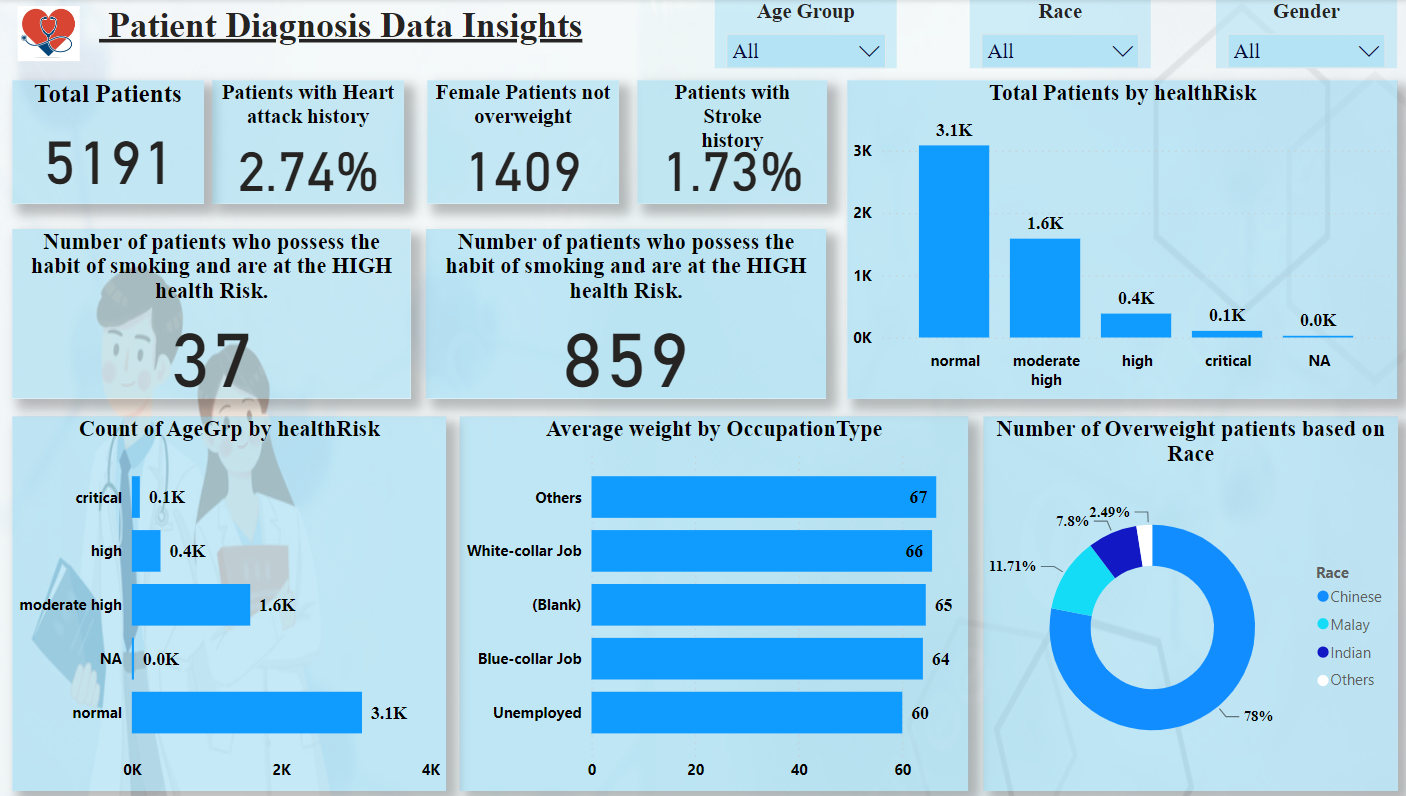

The page's visual inventory and layout, read from the dashboard file:
{"tool":"powerbi","page":{"name":"Page 1","canvas":[1280,720],"ordinal":0},"visuals":[{"type":"textbox","box":[80.3,0,461.4,62.3],"z":1},{"type":"card","title":"Total Patients","fields":{"Values":["Table1.Total Patients"]},"box":[14.4,73.1,172.6,111.5],"z":2},{"type":"card","title":"Patients with Heart attack history","fields":{"Values":["Table1.% heartattack"]},"box":[195.4,73.1,172.6,111.5],"z":3},{"type":"card","title":"Patients with Stroke history","fields":{"Values":["Table1.% stroke patient"]},"box":[577.7,73.1,171.4,111.5],"z":4},{"type":"card","title":"Female Patients not overweight","fields":{"Values":["CountNonNull(Table1.Overweight)"]},"box":[388.3,73.1,172.6,111.5],"z":5},{"type":"card","title":"Number of patients who possess the habit of smoking and are at the HIGH health Risk.","fields":{"Values":["CountNonNull(Table1.Zone)"]},"box":[14.4,207.8,359.2,152.9],"z":6},{"type":"card","title":"Number of patients who possess the habit of smoking and are at the HIGH health Risk.","fields":{"Values":["CountNonNull(Table1.Zone)"]},"box":[388.1,207.8,360.7,152.9],"z":7},{"type":"barChart","fields":{"Y":["Table1.Average weight"],"Category":["Table1.OccupationType"]},"box":[418.4,376.6,458.8,337.6],"z":8},{"type":"donutChart","title":" Number of Overweight patients based on Race","fields":{"Category":["Table1.Race"],"Y":["CountNonNull(Table1.Overweight)"]},"box":[890.2,376.6,373.7,337.6],"z":9},{"type":"columnChart","fields":{"Category":["Table1.healthRisk"],"Y":["Table1.Total Patients"]},"box":[767.5,73.6,496.3,287.1],"z":10},{"type":"barChart","fields":{"Category":["Table1.healthRisk"],"Y":["CountNonNull(Table1.AgeGrp)"]},"box":[14.4,376.6,391,337.6],"z":11},{"type":"slicer","title":"Age Group","fields":{"Values":["Table1.AgeGrp"]},"box":[648.4,0,164.2,62.3],"z":12},{"type":"slicer","title":"Race","fields":{"Values":["Table1.Race"]},"box":[877.3,0,163,62.3],"z":13},{"type":"slicer","title":"Gender","fields":{"Values":["Table1.Gender"]},"box":[1100.2,0,163,62.3],"z":14},{"type":"image","box":[14.4,0,65.9,62.3],"z":15}]}

Visuals, with their boxes in screenshot pixels (x1, y1, x2, y2), scaled from the page's 1280x720 canvas onto the 1406x796 screenshot:
textbox: (left=88, top=0, right=595, bottom=69)
"Total Patients" card: (left=16, top=81, right=205, bottom=204)
"Patients with Heart attack history" card: (left=215, top=81, right=404, bottom=204)
"Patients with Stroke history" card: (left=635, top=81, right=823, bottom=204)
"Female Patients not overweight" card: (left=427, top=81, right=616, bottom=204)
"Number of patients who possess the habit of smoking and are at the HIGH health Risk." card: (left=16, top=230, right=410, bottom=399)
"Number of patients who possess the habit of smoking and are at the HIGH health Risk." card: (left=426, top=230, right=823, bottom=399)
barChart - Table1.Average weight x Table1.OccupationType: (left=460, top=416, right=964, bottom=790)
" Number of Overweight patients based on Race" donutChart: (left=978, top=416, right=1388, bottom=790)
columnChart - Table1.healthRisk x Table1.Total Patients: (left=843, top=81, right=1388, bottom=399)
barChart - Table1.healthRisk x CountNonNull(Table1.AgeGrp): (left=16, top=416, right=445, bottom=790)
"Age Group" slicer: (left=712, top=0, right=893, bottom=69)
"Race" slicer: (left=964, top=0, right=1143, bottom=69)
"Gender" slicer: (left=1209, top=0, right=1388, bottom=69)
image: (left=16, top=0, right=88, bottom=69)
